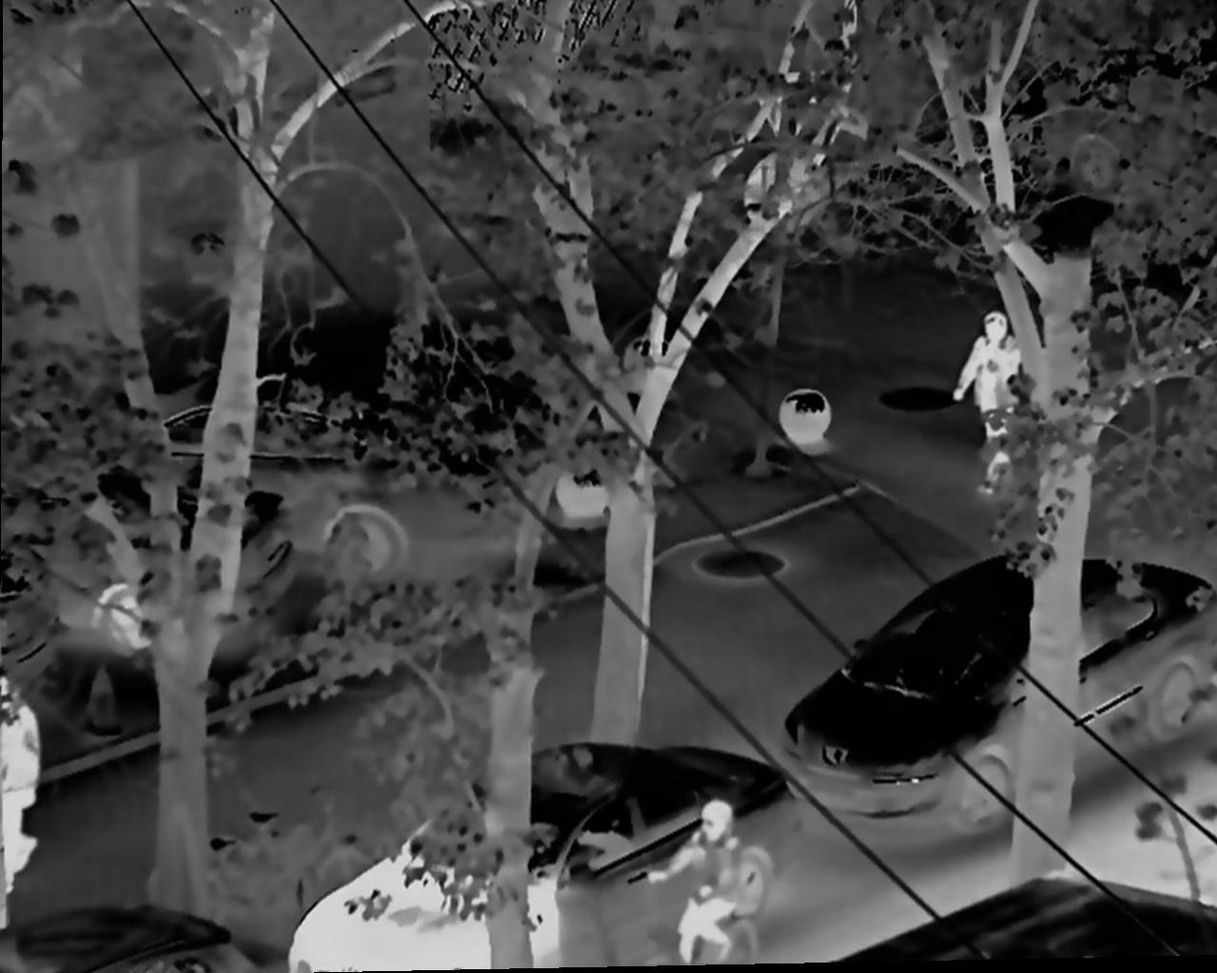person: (643, 795, 751, 961), (945, 303, 1023, 500)
